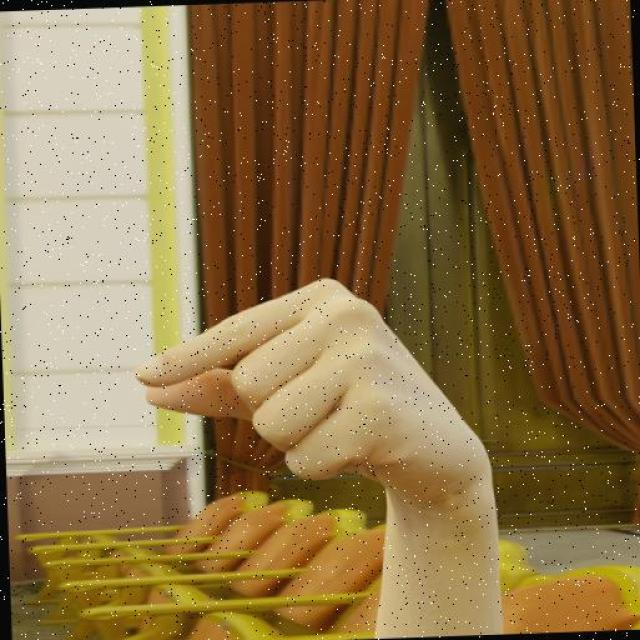G: (131, 268, 498, 512)
